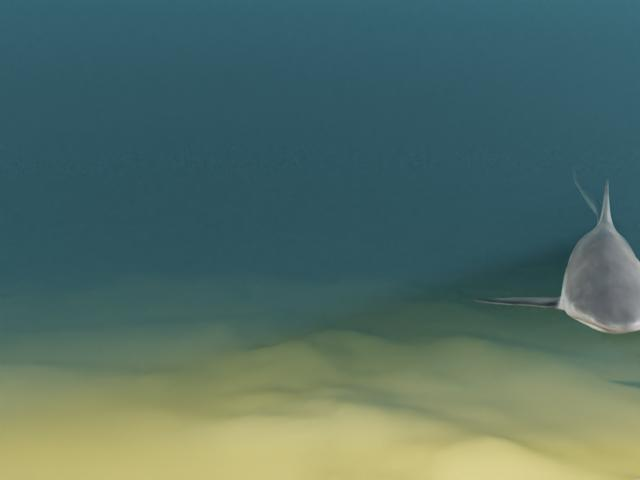Carribean Shark.001: (473, 167, 640, 333)
